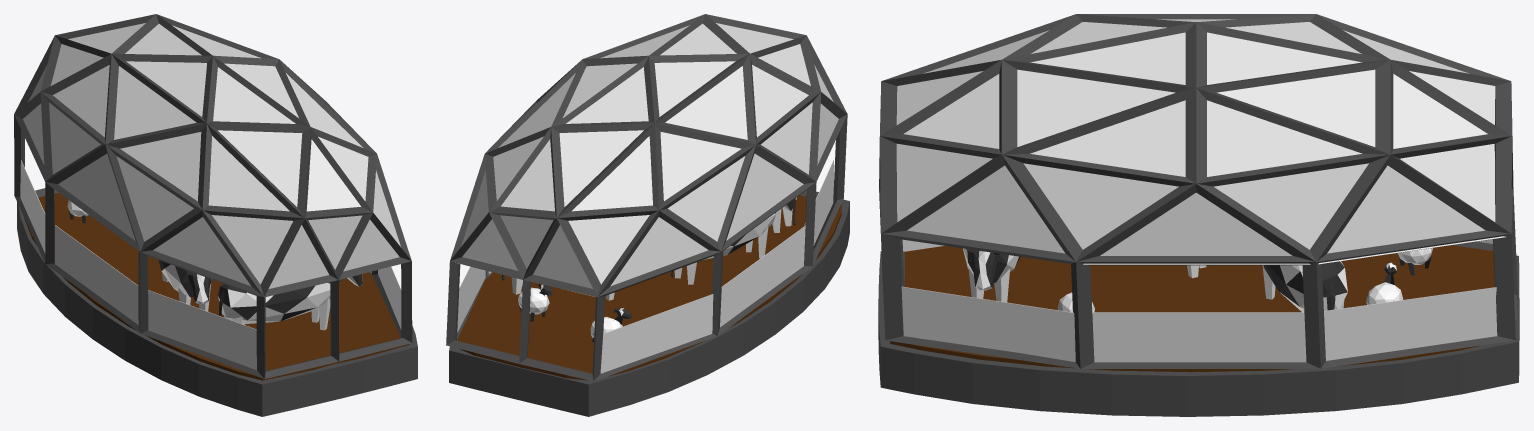
File: MarsScienceLabBarn_3.fbx
3 renders of one model, left to right at view 1: azimuth 30°, elevation 25°; view 2: azimuth 150°, elevation 25°; view 3: azimuth 270°, elevation 25°, orthographic. The views are drawn at different scales.
Parts seen in each view (by area): view 1: Cube.015; view 2: Cube.015; view 3: Cube.015.
Part boxes in pixels (bbox=[...]): Cube.015: bbox=[14, 14, 417, 416]; Cube.015: bbox=[446, 14, 849, 416]; Cube.015: bbox=[878, 14, 1519, 416].
Bounding box in the file's own units: 324 × 310 × 569.
